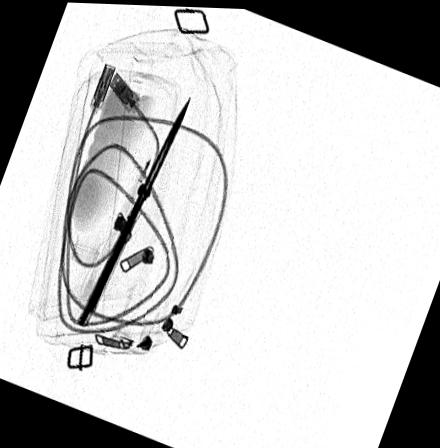Scissors: (73, 85, 195, 328)
